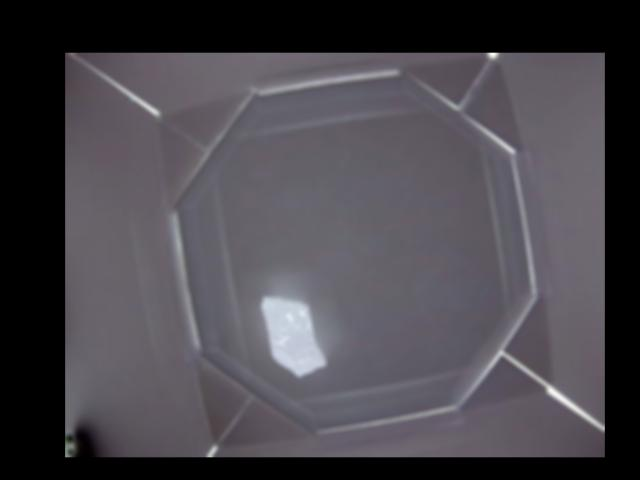China: (258, 296, 328, 375)
